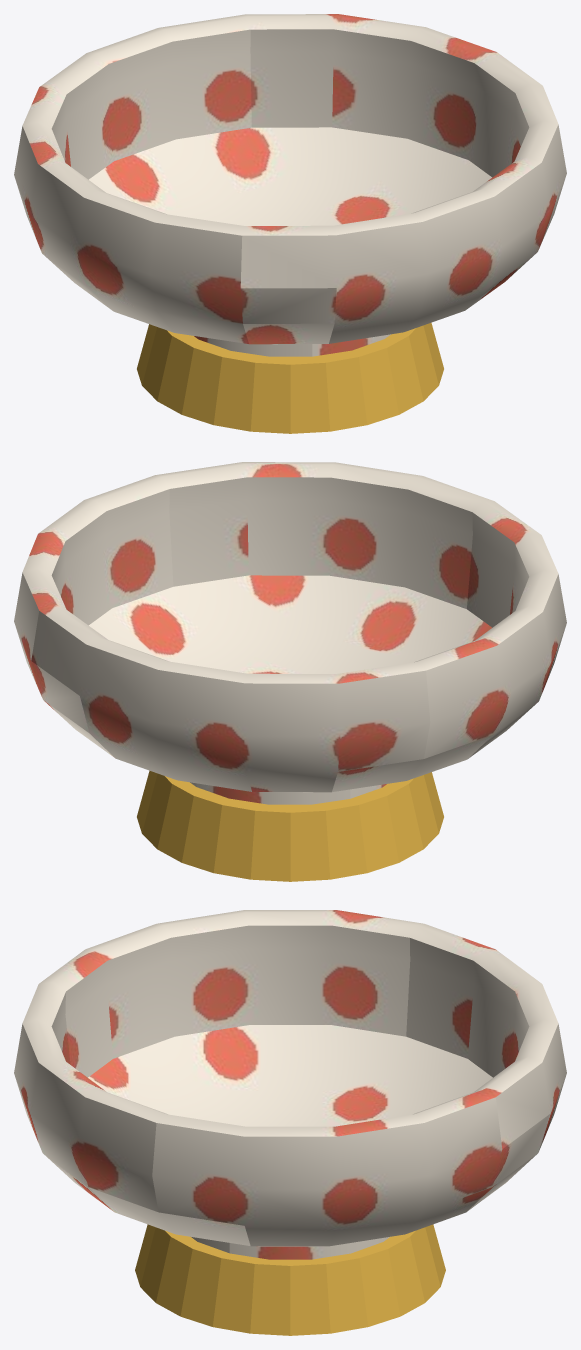
The model's file is bowls_c.glb.
3 renders of one model, top to bottom at view 1: azimuth 30°, elevation 25°; view 2: azimuth 150°, elevation 25°; view 3: azimuth 270°, elevation 25°, orthographic.
Parts seen in each view (by area): view 1: body; view 2: body; view 3: body.
Part boxes in pixels (x1=…): body: x1=14, y1=14, x2=566, y2=433; body: x1=14, y1=462, x2=566, y2=881; body: x1=14, y1=910, x2=566, y2=1335.
Size of the model in its own units: 0.16 by 0.08 by 0.16.
Materials: 2 (1 with a texture image).
